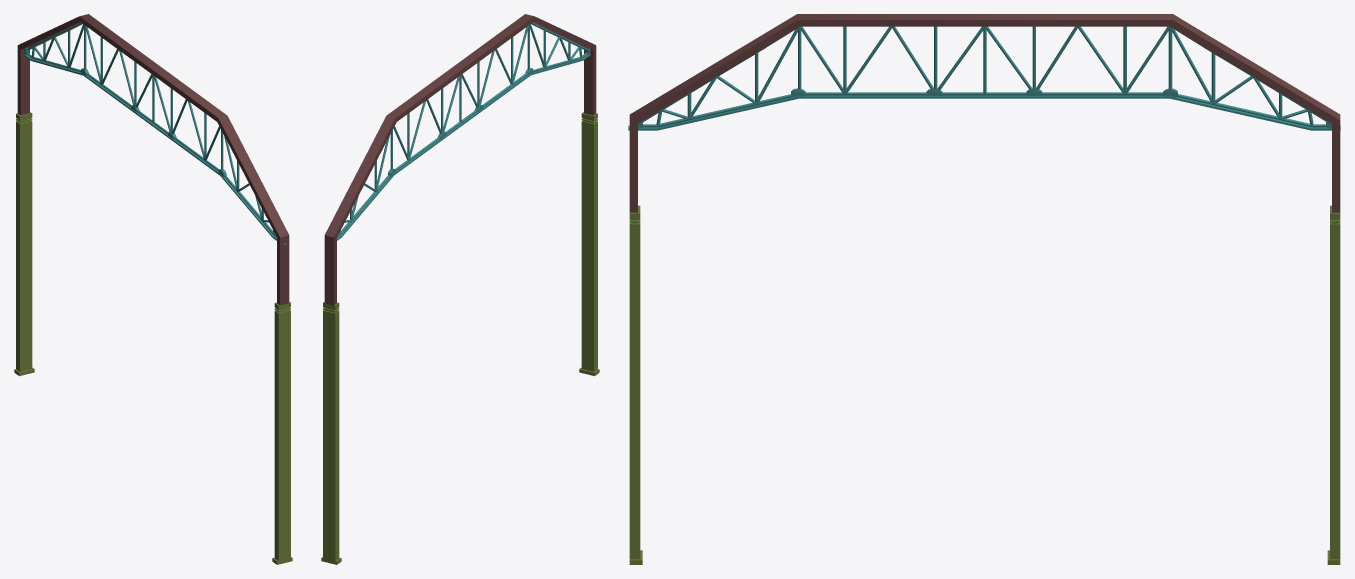
File: CrossStructure1.fbx
The picture shows the model from 3 angles, left to right: view 1: azimuth 30°, elevation 25°; view 2: azimuth 150°, elevation 25°; view 3: azimuth 270°, elevation 25°; orthographic projection. The views are drawn at different scales.
Visible parts, largest first — view 1: CrossStructure1; view 2: CrossStructure1; view 3: CrossStructure1.
Part boxes in pixels (box(x1,y1,x2,y2)): CrossStructure1: box(14, 14, 292, 564); CrossStructure1: box(321, 14, 599, 564); CrossStructure1: box(628, 14, 1340, 564).
Bounding box in the file's own units: 27.35 × 677 × 805.
